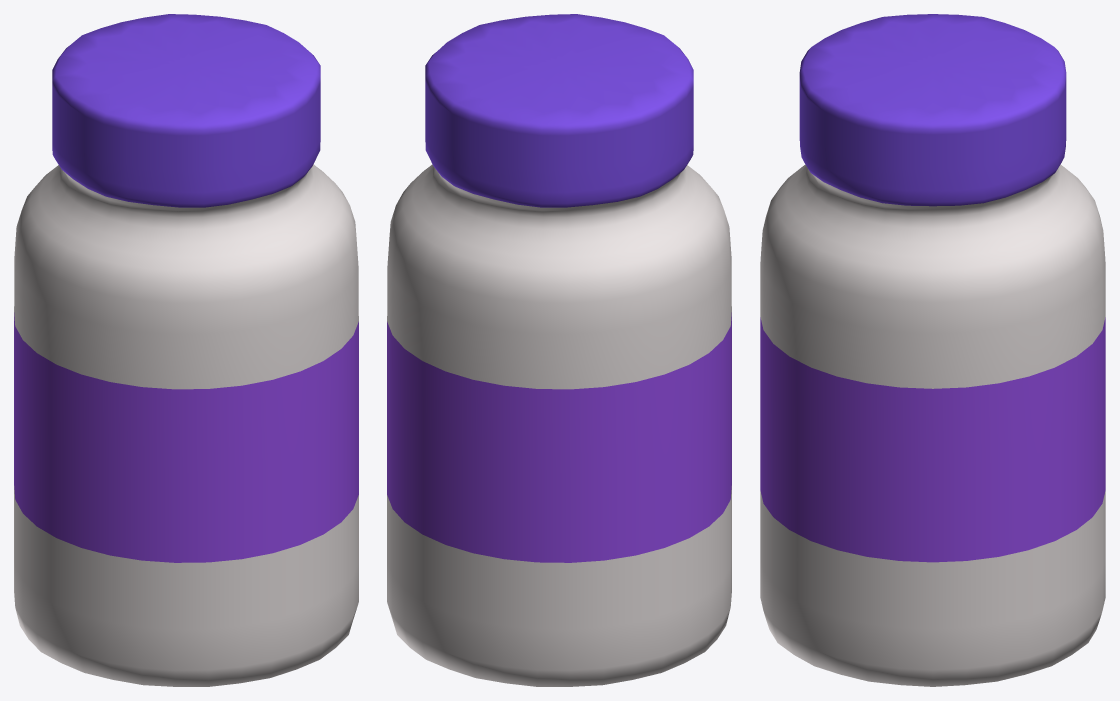
File: medicinbox2.fbx
3 renders of one model, left to right at view 1: azimuth 30°, elevation 25°; view 2: azimuth 150°, elevation 25°; view 3: azimuth 270°, elevation 25°, orthographic.
Parts seen in each view (by area): view 1: Cylinder; view 2: Cylinder; view 3: Cylinder.
Boxes of the visible parts, <box> form: Cylinder: <box>14,14,358,686</box>; Cylinder: <box>387,14,731,686</box>; Cylinder: <box>760,14,1105,686</box>.
Bounding box in the file's own units: 3.9 × 6.96 × 3.9.
